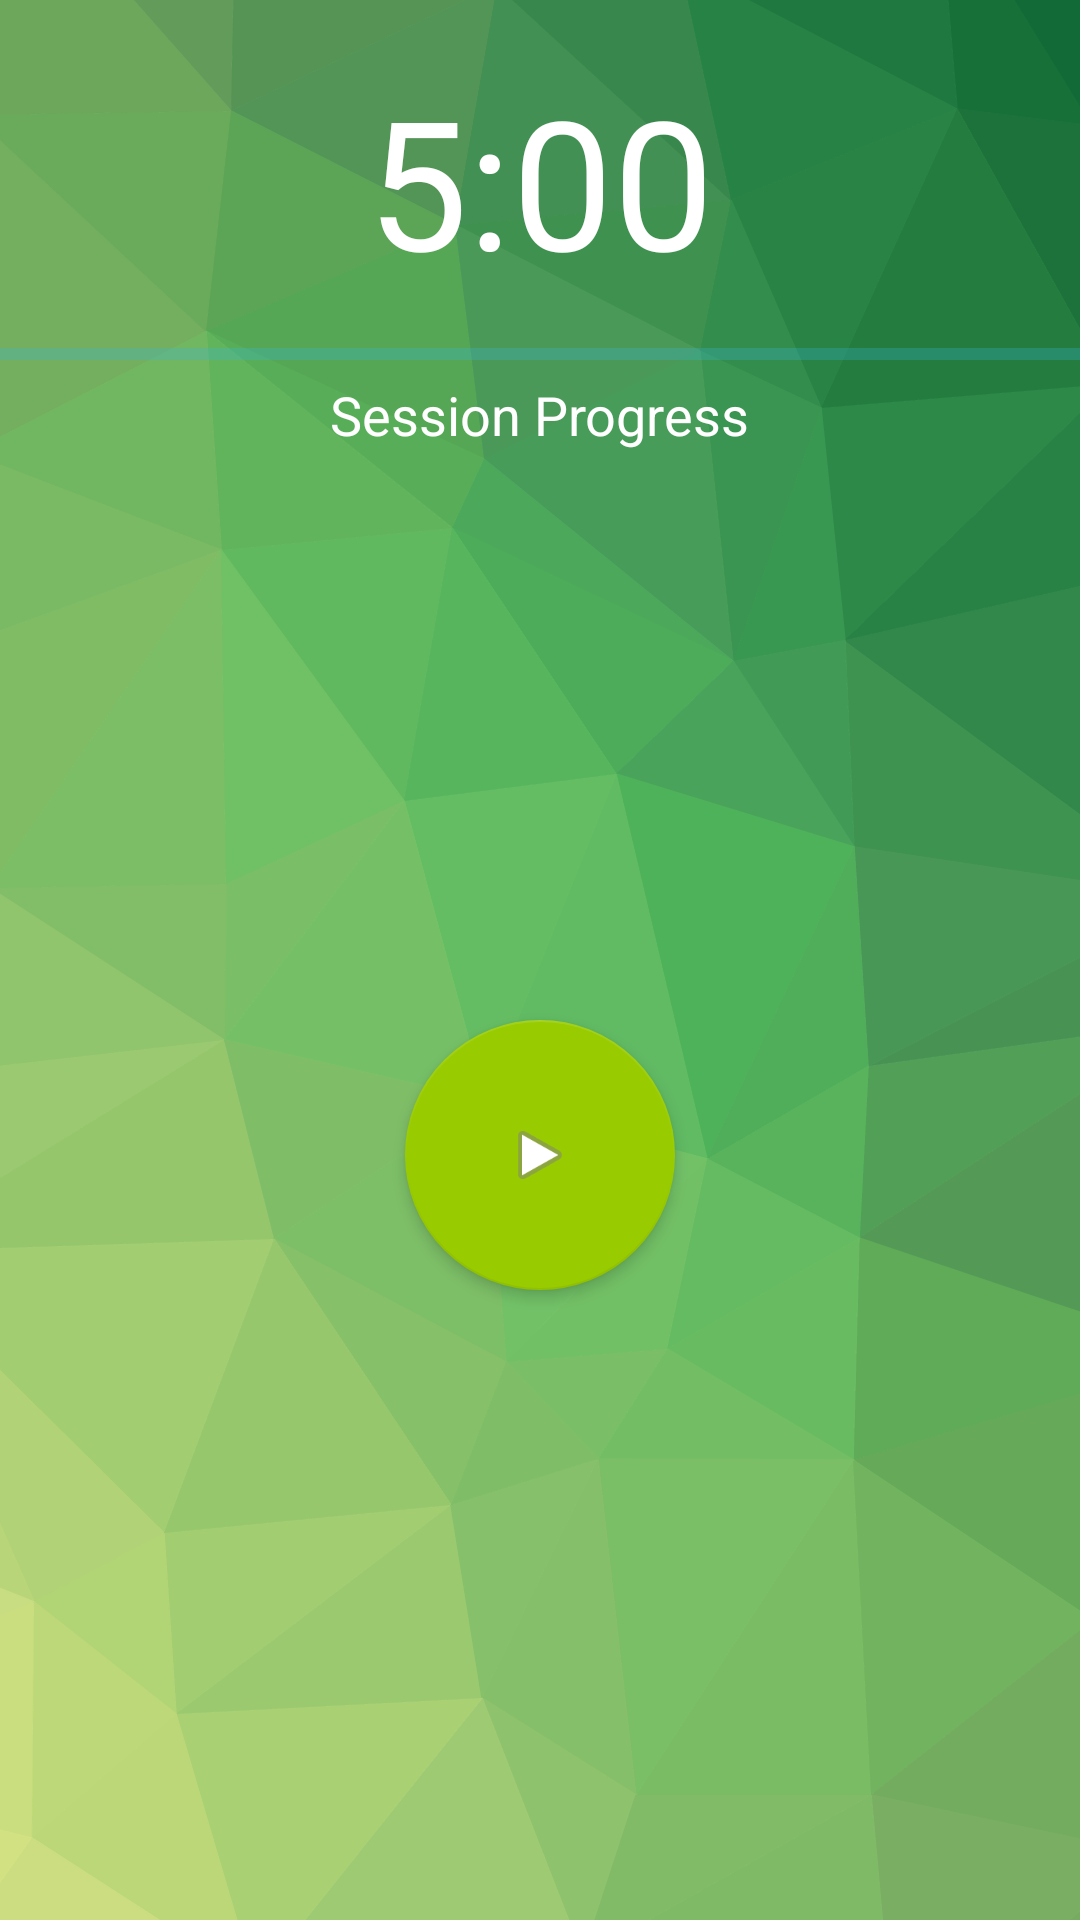

Icon click points for this 1080 x 1920 phone screenshot, format [x,y]:
play: [540,1155]
